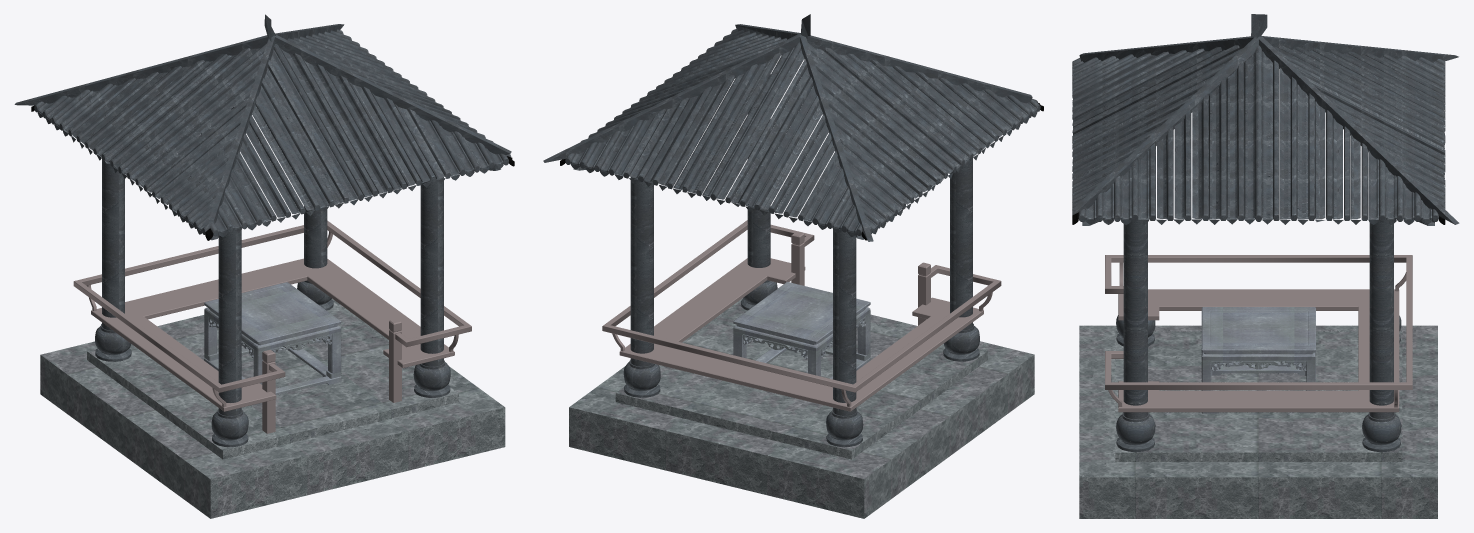
The model's file is dong.fbx.
3 renders of one model, left to right at view 1: azimuth 30°, elevation 25°; view 2: azimuth 150°, elevation 25°; view 3: azimuth 270°, elevation 25°, orthographic. The views are drawn at different scales.
Visible parts, largest first — view 1: polySurface4; view 2: polySurface4; view 3: polySurface4.
Boxes of the visible parts, <box> form: polySurface4: <box>14,14,514,518</box>; polySurface4: <box>543,14,1043,518</box>; polySurface4: <box>1072,14,1459,518</box>.
Size of the model in its own units: 392 by 459 by 378.
